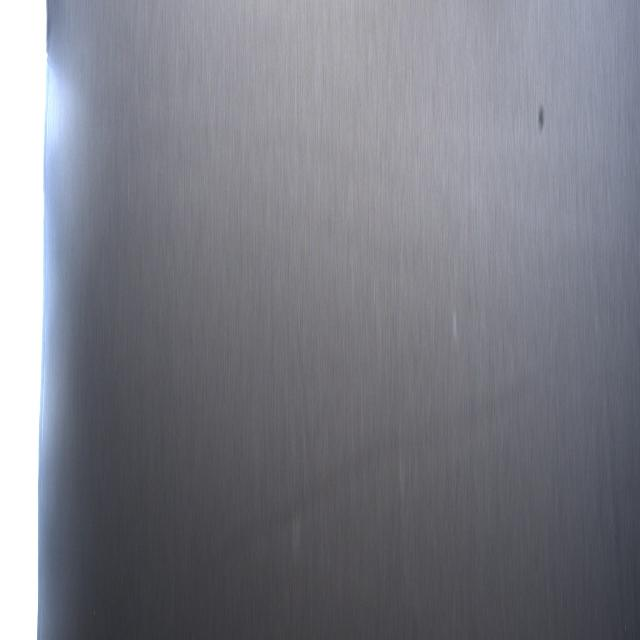crease: (204, 390, 516, 601), (593, 235, 622, 601)
